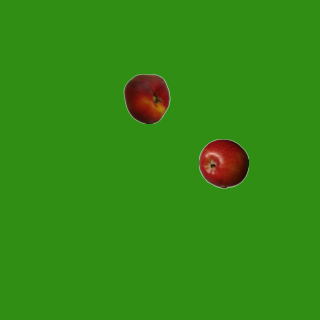Apple Braeburn: (198, 138, 248, 188)
Nectarine Flat: (121, 73, 171, 123)
